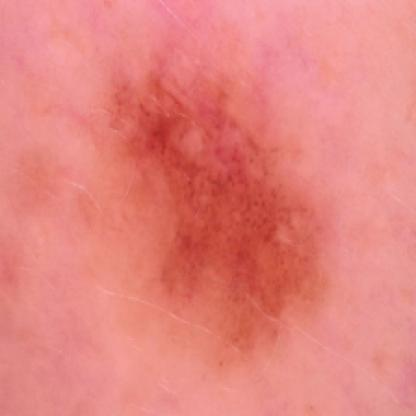benign: (109, 52, 327, 329)
